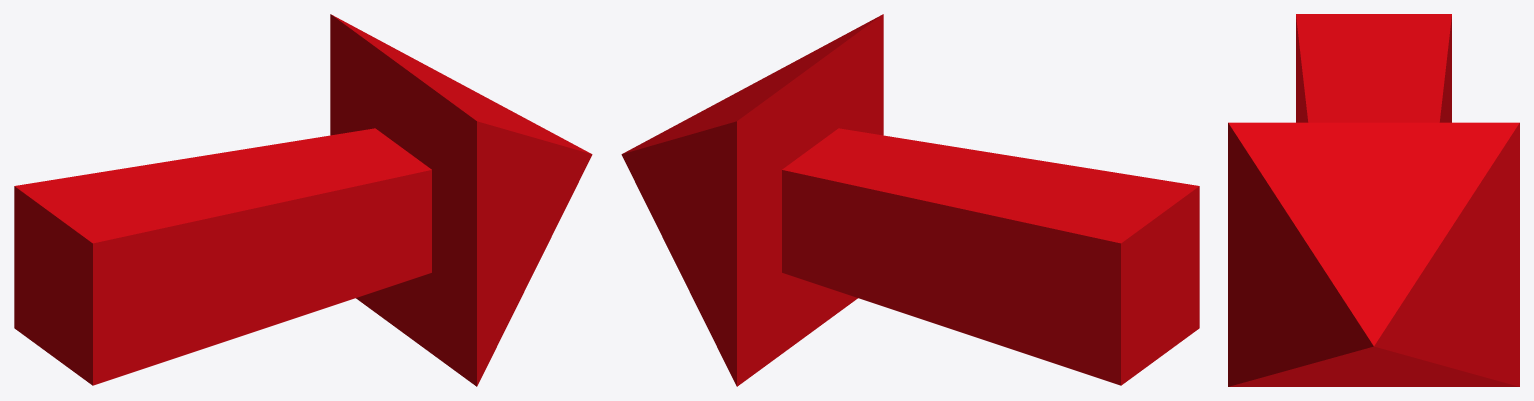
File: arrow.fbx
3 renders of one model, left to right at view 1: azimuth 30°, elevation 25°; view 2: azimuth 150°, elevation 25°; view 3: azimuth 270°, elevation 25°, orthographic.
Visible parts, largest first — view 1: Cube; view 2: Cube; view 3: Cube.
Part boxes in pixels (left/top/right/bottom): Cube: left=14, top=14, right=592, bottom=386; Cube: left=621, top=14, right=1199, bottom=386; Cube: left=1228, top=14, right=1519, bottom=386.
Bounding box in the file's own units: 205 × 96.76 × 96.76.
